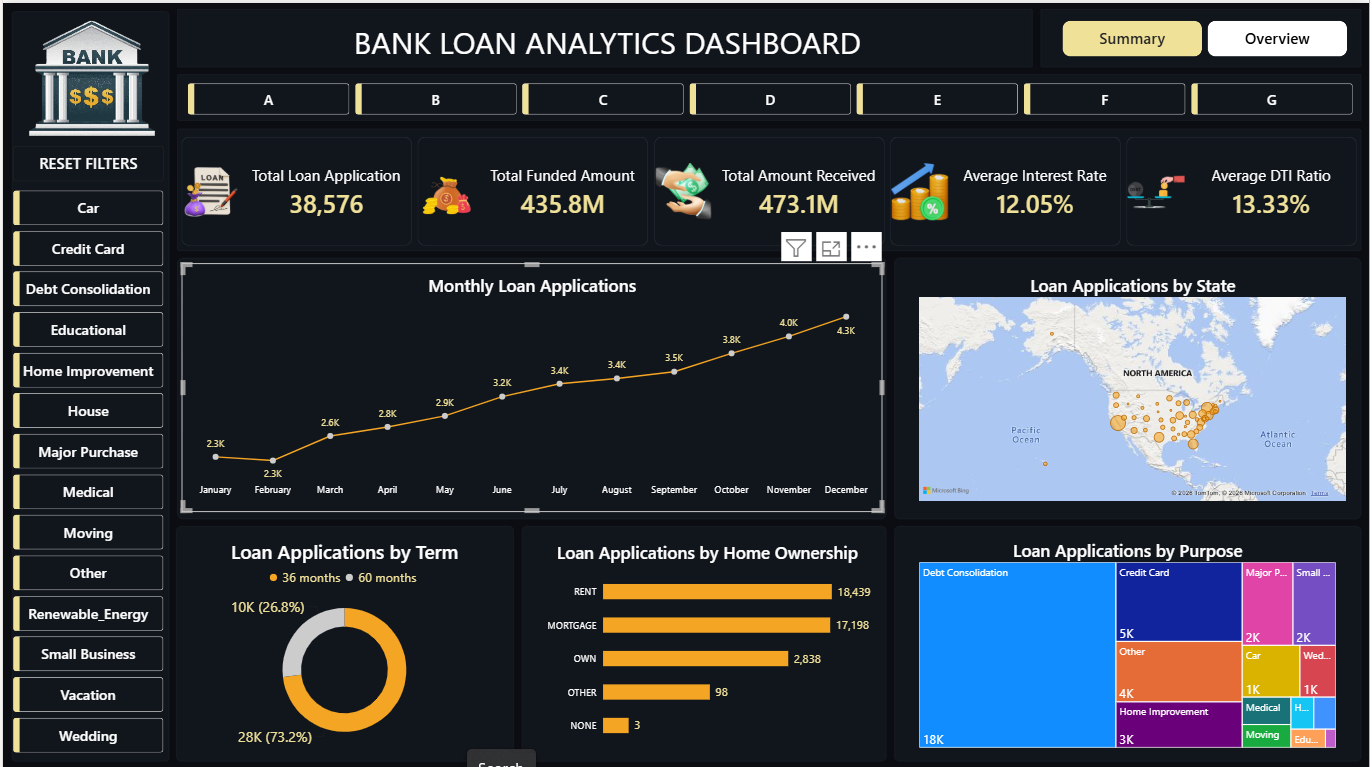

This screenshot's page, from the dashboard's own definition file:
{"tool":"powerbi","page":{"name":"Overview","canvas":[1920,1080],"ordinal":1},"visuals":[{"type":"cardVisual","fields":{"Data":["financial_loan.Total Loan Application","financial_loan.Total Funded Amount","financial_loan.Total Amount Received","financial_loan.Average Interest Rate","financial_loan.Average DTI Rate"]},"box":[250,187.8,1653.3,153.3],"z":0},{"type":"image","box":[0,0,250,210],"z":1000},{"type":"advancedSlicerVisual","fields":{"Values":["financial_loan.PURPOSE"]},"box":[14.3,264.3,211.4,802.9],"z":2000},{"type":"advancedSlicerVisual","fields":{"Values":["financial_loan.GRADE"]},"box":[260,113,1643,44],"z":3000},{"type":"actionButton","box":[14.3,200,211.4,50],"z":4000},{"type":"textbox","box":[250,24.3,1197.1,68.6],"z":5000},{"type":"pageNavigator","box":[1488.6,24.3,400,50],"z":6000},{"type":"lineChart","title":"Monthly Loan Applications","fields":{"Category":["financial_loan.ISSUE_DATE.Variation.Date Hierarchy.Month"],"Y":["financial_loan.Total Loan Application"]},"box":[250,365.7,985.7,348.6],"z":7000},{"type":"donutChart","title":"Loan Applications by Term","fields":{"Category":["financial_loan.TERM"],"Y":["financial_loan.Total Loan Application"]},"box":[250,738.6,458.6,328.6],"z":8000},{"type":"clusteredBarChart","title":"Loan Applications by Home Ownership","fields":{"Category":["financial_loan.HOME_OWNERSHIP"],"Y":["financial_loan.Total Loan Application"]},"box":[742.9,741.4,492.9,321.4],"z":9000},{"type":"treemap","title":"Loan Applications by Purpose","fields":{"Group":["financial_loan.PURPOSE"],"Values":["financial_loan.Total Loan Application"]},"box":[1271.4,738.6,617.1,324.3],"z":10000},{"type":"azureMap","title":"Loan Applications by State","fields":{"Category":["financial_loan.ADDRESS_STATE"],"Size":["financial_loan.Total Loan Application"]},"box":[1271.4,365.7,631.4,350],"z":11000}]}

Visuals, with their boxes in screenshot pixels (x1, y1, x2, y2), scaled from the page's 1920x1080 canvas onto the 1372x767 screenshot:
cardVisual - financial_loan.Total Loan Application x financial_loan.Total Funded Amount: <box>179,133,1360,242</box>
image: <box>0,0,179,149</box>
advancedSlicerVisual - financial_loan.PURPOSE: <box>10,188,161,758</box>
advancedSlicerVisual - financial_loan.GRADE: <box>186,80,1360,111</box>
actionButton: <box>10,142,161,178</box>
textbox: <box>179,17,1034,66</box>
pageNavigator: <box>1064,17,1350,53</box>
"Monthly Loan Applications" lineChart: <box>179,260,883,507</box>
"Loan Applications by Term" donutChart: <box>179,525,506,758</box>
"Loan Applications by Home Ownership" clusteredBarChart: <box>531,527,883,755</box>
"Loan Applications by Purpose" treemap: <box>909,525,1349,755</box>
"Loan Applications by State" azureMap: <box>909,260,1360,508</box>
